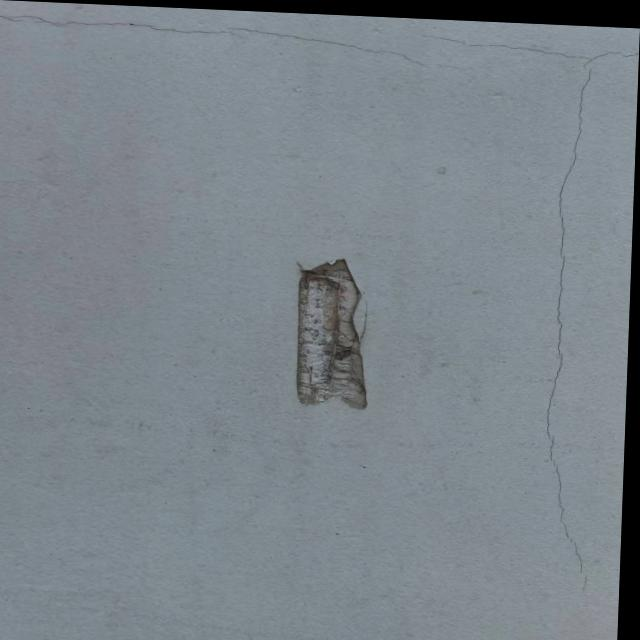crack: (412, 29, 633, 602), (10, 11, 440, 76)
spalling: (290, 256, 379, 416)
